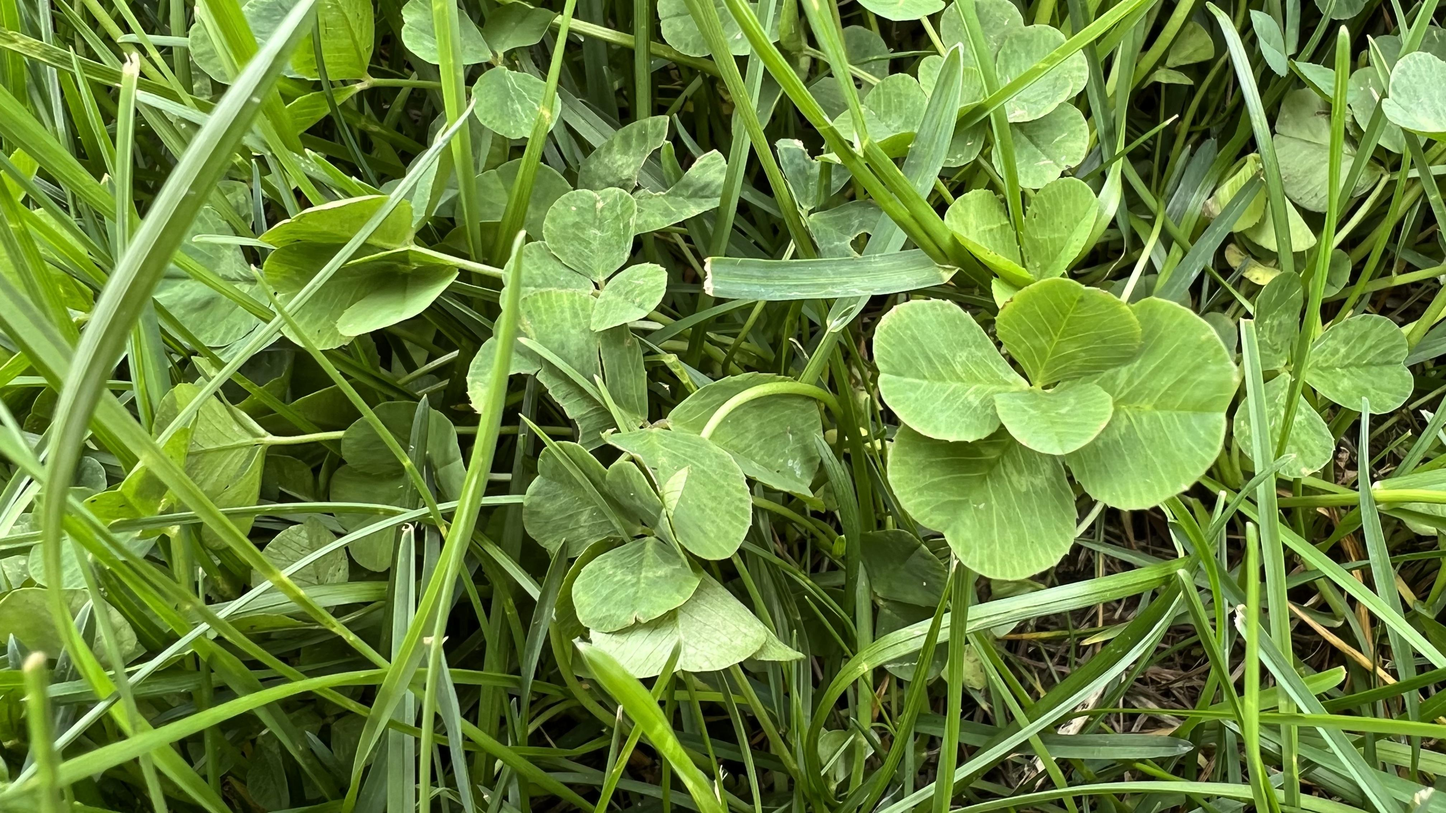5-Leaf-Clovers: (518, 112, 1023, 319)
